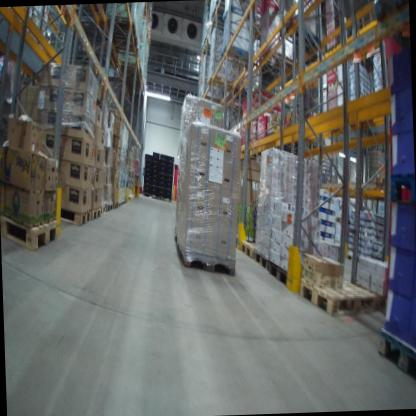pallet: (296, 268, 384, 323), (172, 233, 237, 282), (375, 325, 416, 387), (1, 214, 63, 251), (374, 0, 410, 53), (219, 39, 255, 71), (265, 256, 292, 292), (267, 44, 298, 75), (59, 204, 93, 230), (205, 71, 240, 92), (103, 14, 137, 32), (251, 249, 269, 271), (241, 237, 257, 261), (374, 171, 392, 189), (91, 206, 101, 224), (142, 191, 157, 203), (157, 195, 172, 204), (105, 200, 114, 214), (112, 199, 121, 211), (99, 203, 106, 217)
